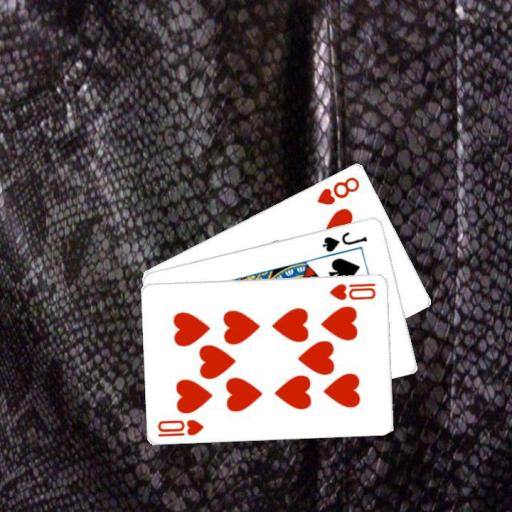10H: (155, 415, 206, 438), (327, 280, 378, 302)
8H: (314, 173, 361, 206)
JS: (319, 228, 369, 253)
